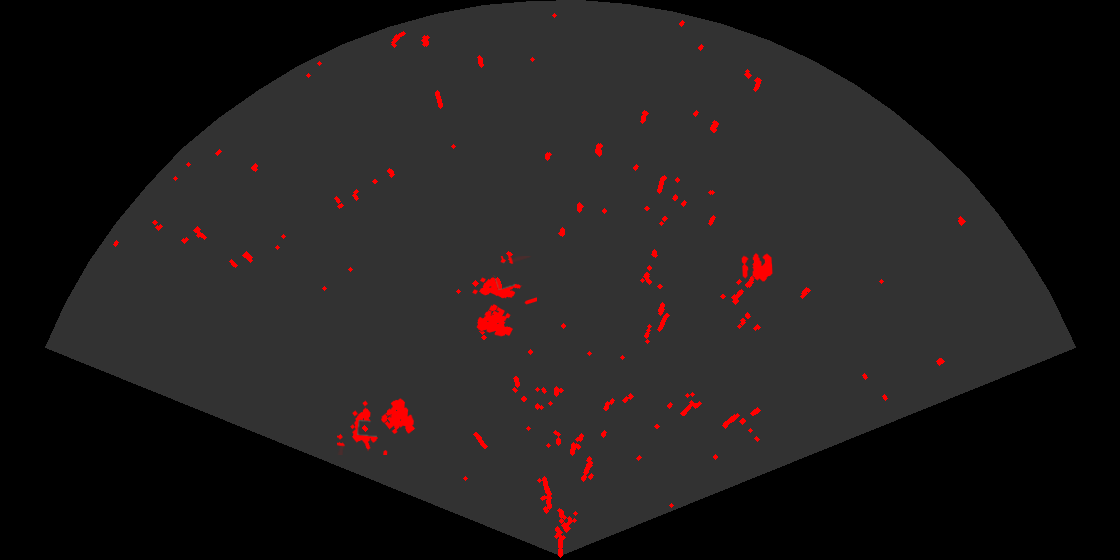ball: (740, 251, 774, 283)
cage: (471, 256, 537, 338), (337, 397, 417, 455)
